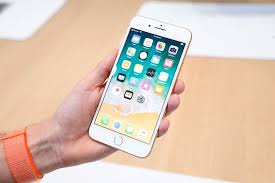iphone: (77, 12, 193, 160)
iphone8: (78, 12, 194, 160)
